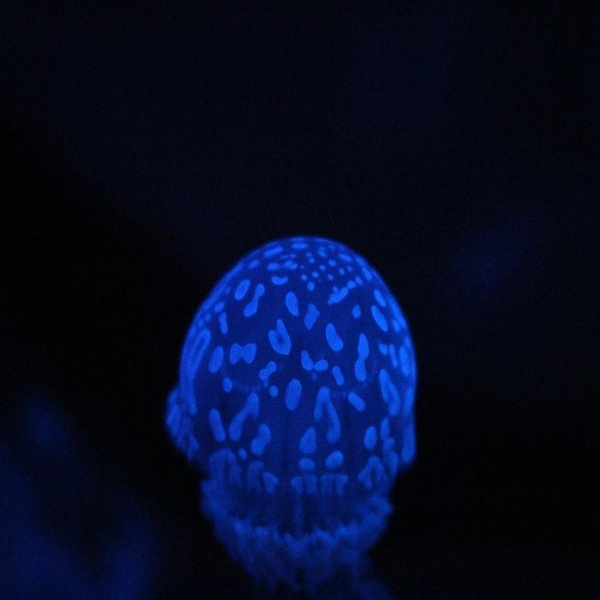Jellyfish: (166, 253, 412, 590)
